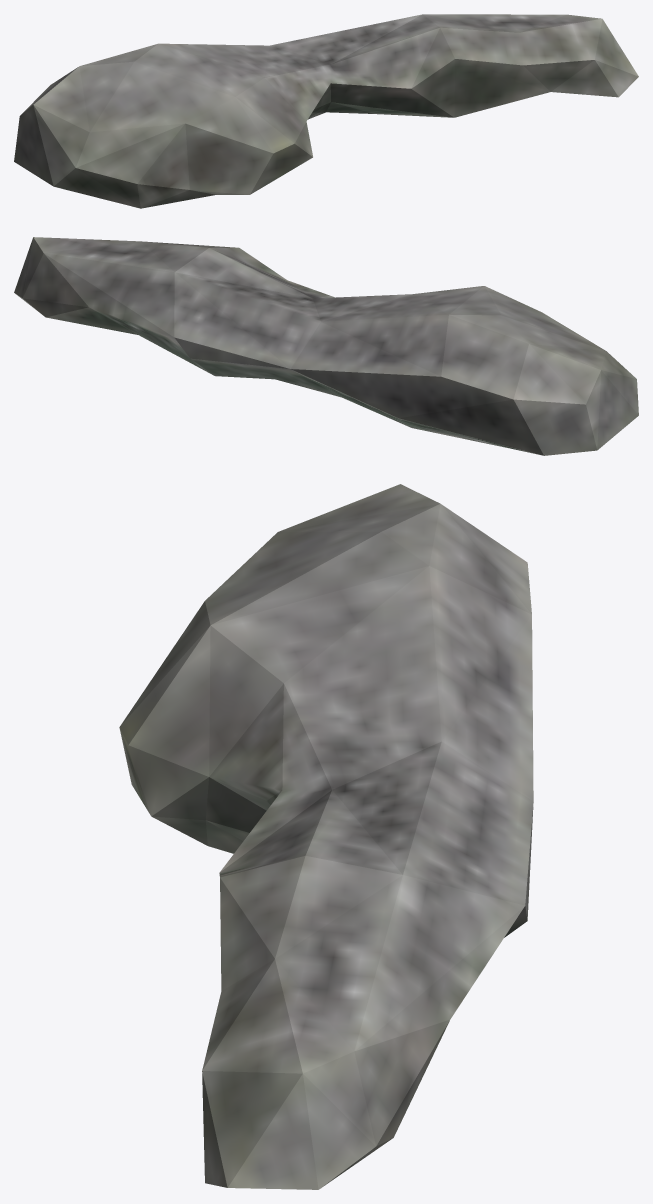
The model's file is rock_04.obj.
The picture shows the model from 3 angles, top to bottom: view 1: azimuth 30°, elevation 25°; view 2: azimuth 150°, elevation 25°; view 3: azimuth 270°, elevation 25°; orthographic projection. The views are drawn at different scales.
Size of the model in its own units: 0.1534 by 0.0307 by 0.0482.
1 material, 1 textured.
